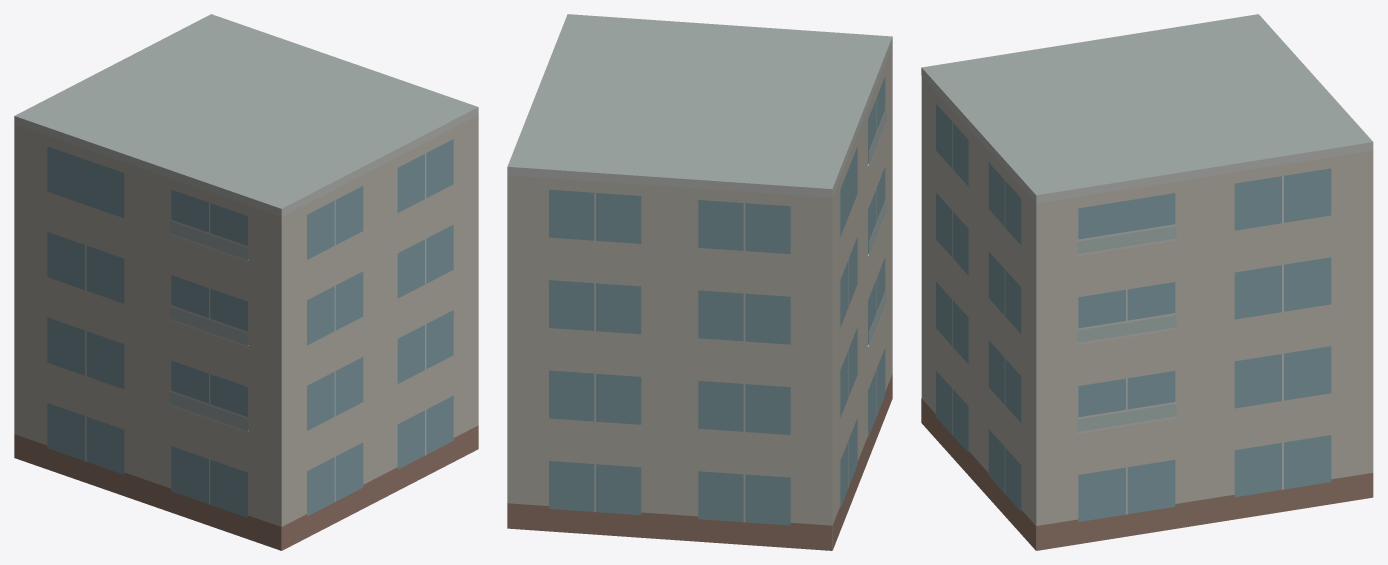
Rendered from survey-upis-32986750.glb.
The picture shows the model from 3 angles, left to right: view 1: azimuth 30°, elevation 25°; view 2: azimuth 150°, elevation 25°; view 3: azimuth 270°, elevation 25°; orthographic projection. The views are drawn at different scales.
Parts seen in each view (by area): view 1: survey-upis-32986750.tmp; view 2: survey-upis-32986750.tmp; view 3: survey-upis-32986750.tmp.
Boxes of the visible parts, box(x1,y1,x2,y2) form: survey-upis-32986750.tmp: box(14, 14, 478, 550); survey-upis-32986750.tmp: box(507, 14, 892, 550); survey-upis-32986750.tmp: box(921, 14, 1373, 550).
Size of the model in its own units: 11.38 by 10.4 by 11.99.
